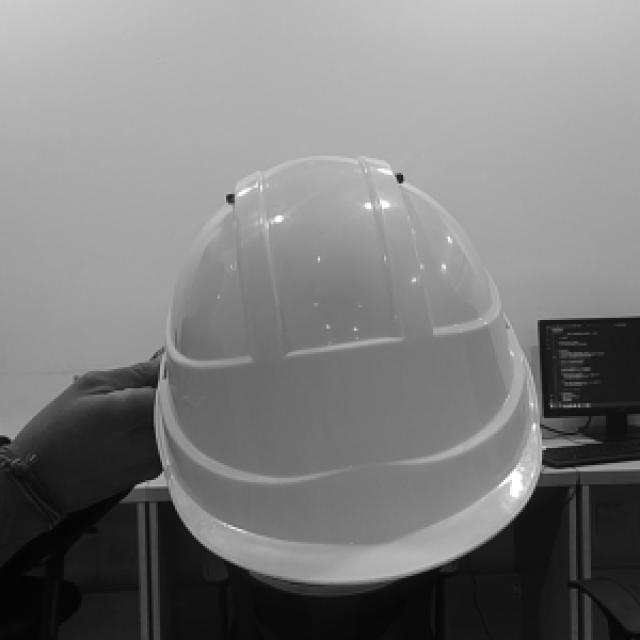safety_helmet: (153, 156, 542, 584)
